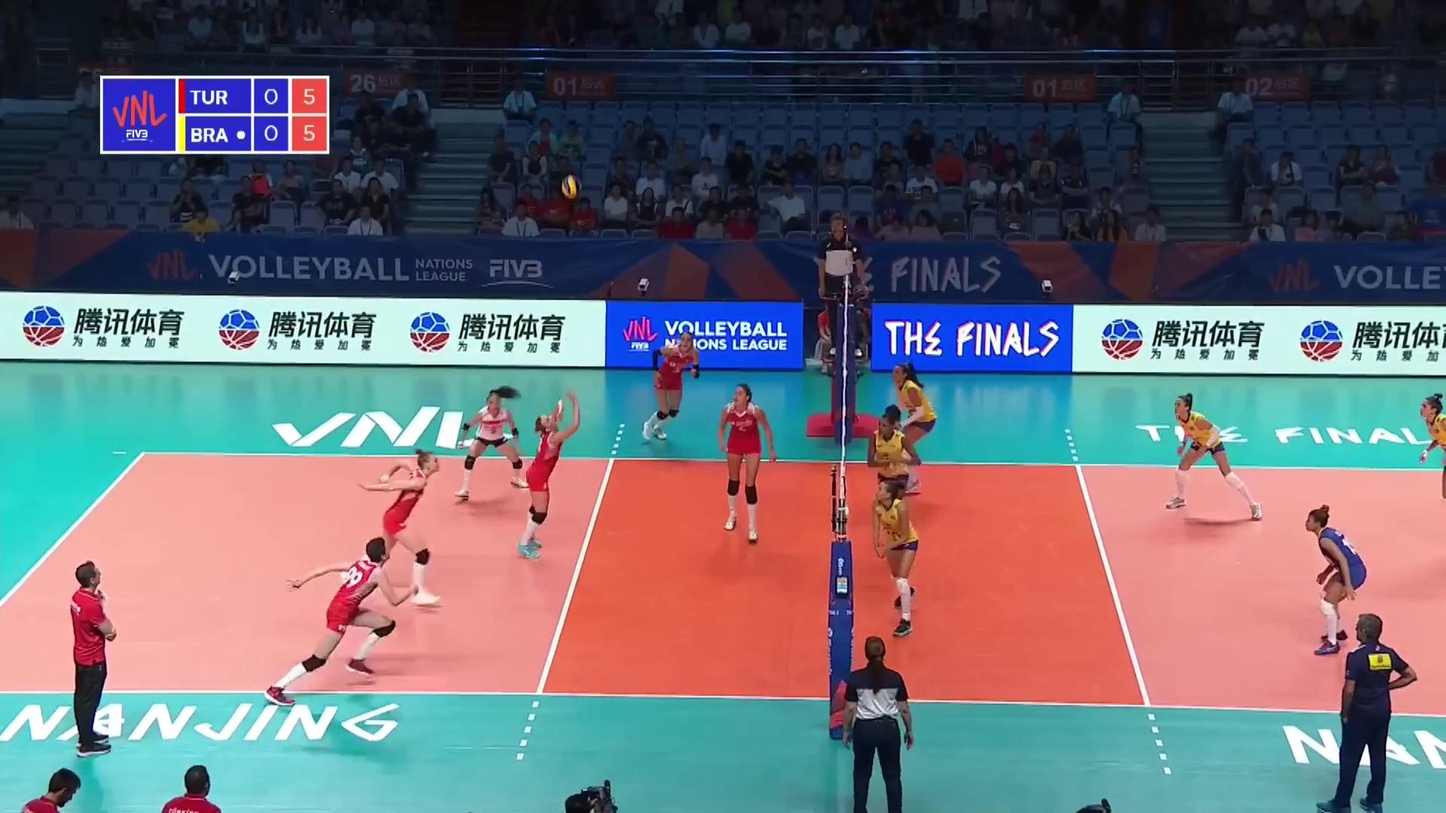player: (275, 544, 412, 712), (1165, 395, 1269, 520), (360, 449, 442, 606), (867, 469, 930, 638), (518, 396, 583, 558), (720, 384, 779, 546), (1302, 506, 1367, 651), (453, 388, 532, 507), (864, 403, 922, 556), (886, 360, 940, 495), (639, 332, 701, 446), (1419, 393, 1446, 511)
refree: (839, 647, 910, 813), (818, 216, 868, 354)
